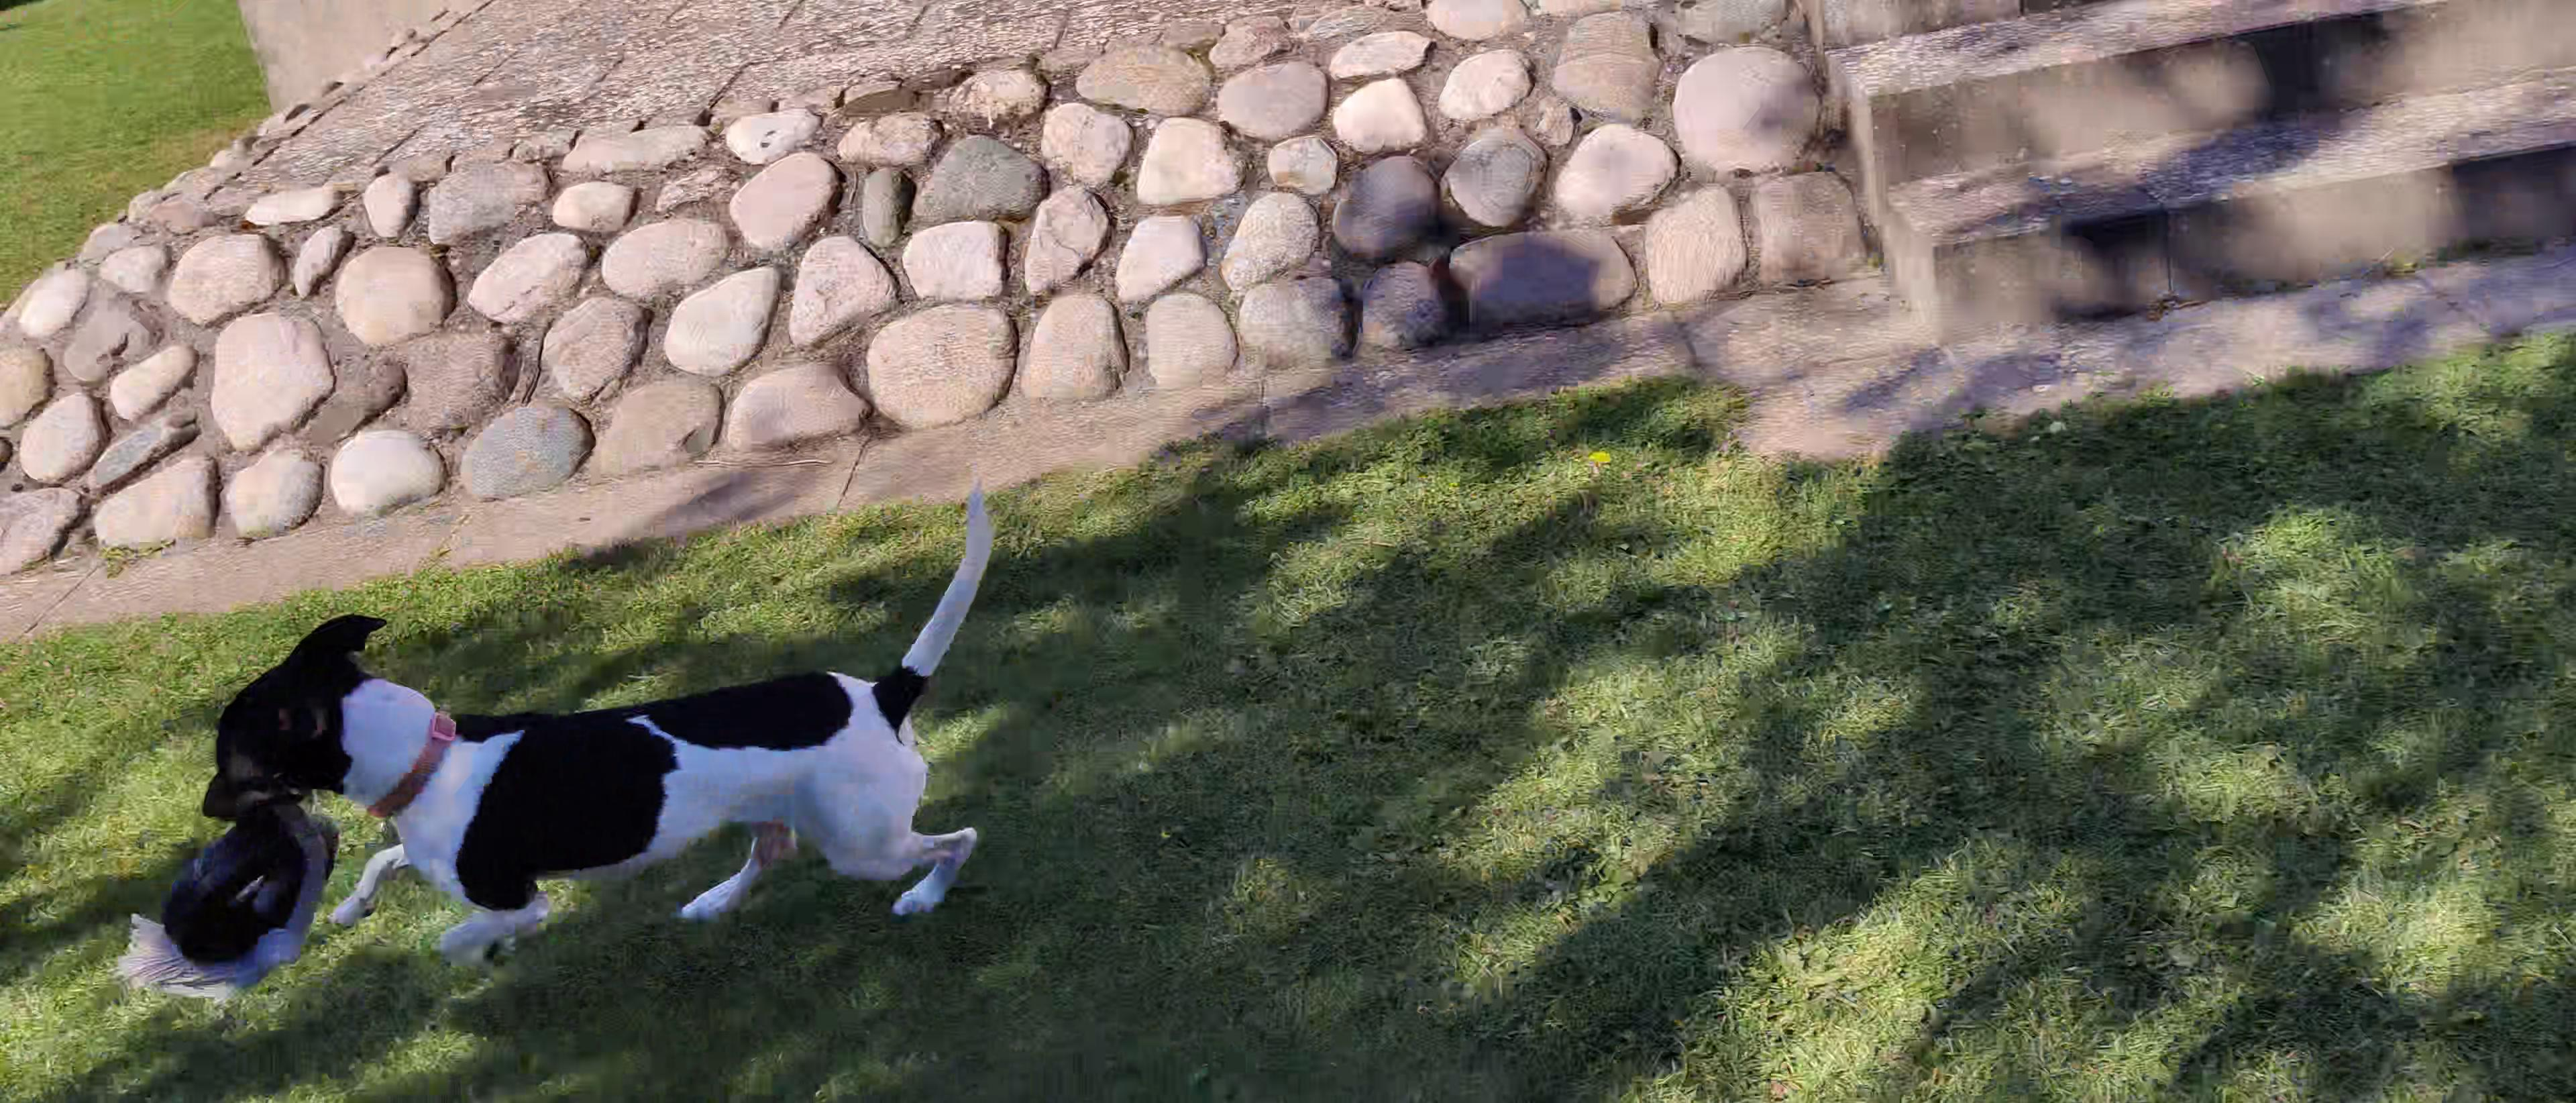Dog: (186, 468, 1015, 975)
